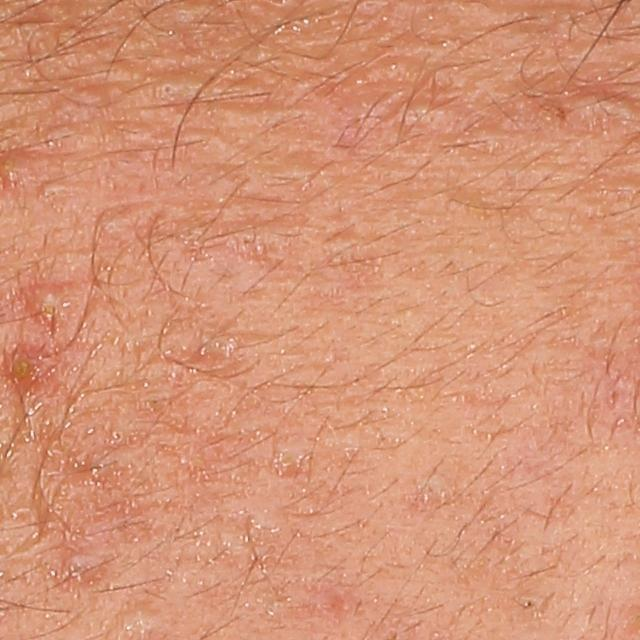comedo: (563, 84, 636, 135), (403, 87, 463, 132), (63, 552, 105, 588), (96, 206, 146, 236), (41, 181, 80, 205), (161, 78, 178, 99)
papule: (7, 341, 54, 391)
